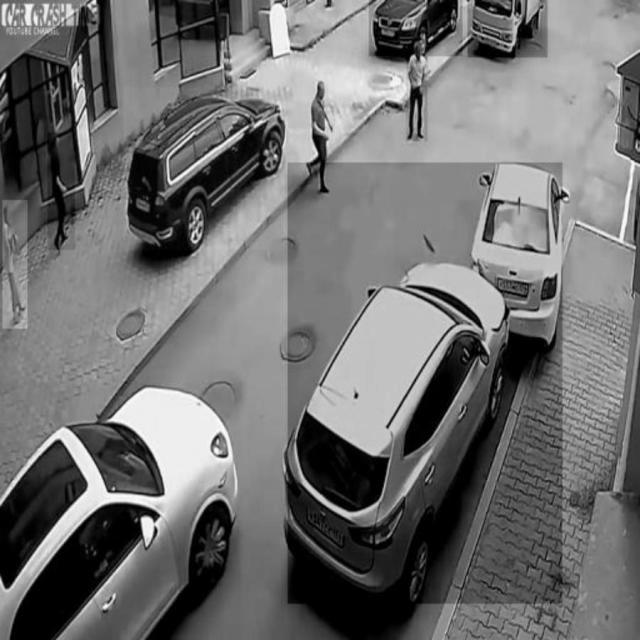accident: (287, 163, 563, 604)
person: (309, 73, 335, 197), (3, 200, 28, 328), (48, 133, 75, 251), (406, 44, 426, 142)
vehicle: (0, 382, 241, 640), (124, 88, 286, 250), (369, 1, 462, 57), (468, 0, 548, 57)
